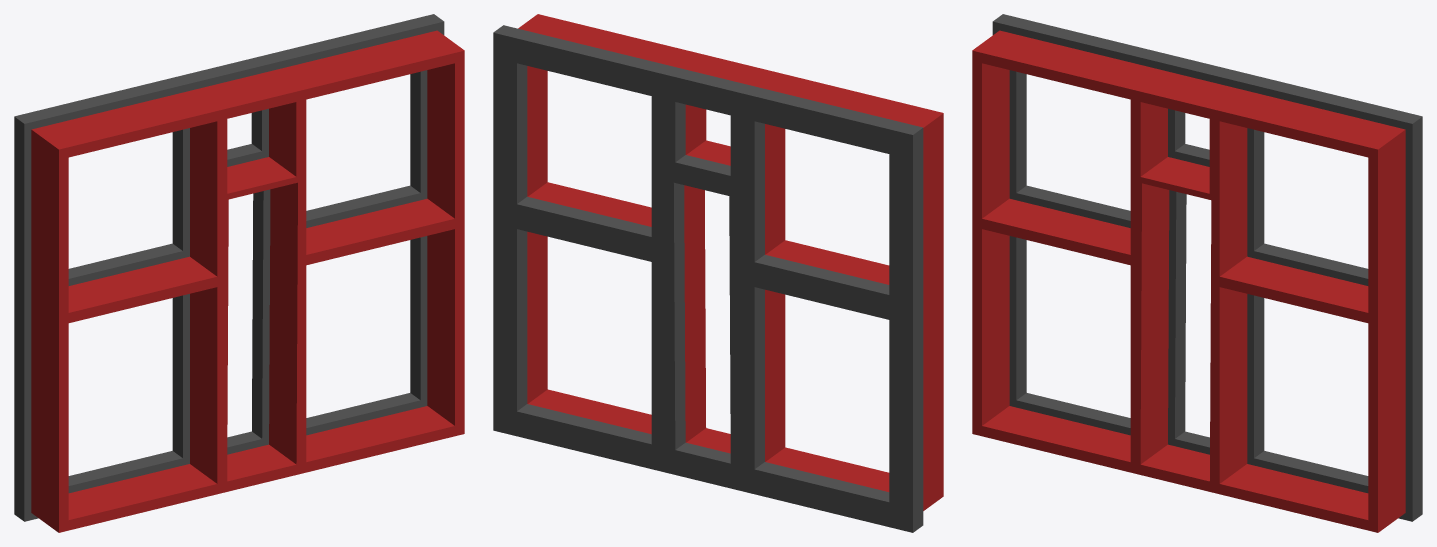
File: 0Fundatii_-1.75.glb
3 renders of one model, left to right at view 1: azimuth 30°, elevation 25°; view 2: azimuth 150°, elevation 25°; view 3: azimuth 330°, elevation 25°, orthographic.
Visible parts, largest first — view 1: IfcWall_1_LAYER_IfcWall, IfcBeam_6_LAYER_IfcBeam; view 2: IfcBeam_6_LAYER_IfcBeam, IfcWall_1_LAYER_IfcWall; view 3: IfcWall_1_LAYER_IfcWall, IfcBeam_6_LAYER_IfcBeam.
Boxes of the visible parts, x1=… form: IfcWall_1_LAYER_IfcWall: x1=31, y1=30, x2=464, y2=532; IfcBeam_6_LAYER_IfcBeam: x1=14, y1=14, x2=444, y2=521; IfcBeam_6_LAYER_IfcBeam: x1=493, y1=25, x2=923, y2=532; IfcWall_1_LAYER_IfcWall: x1=518, y1=14, x2=943, y2=510; IfcWall_1_LAYER_IfcWall: x1=972, y1=30, x2=1405, y2=532; IfcBeam_6_LAYER_IfcBeam: x1=992, y1=14, x2=1422, y2=521.
Bounding box in the file's own units: 10.6 × 9.6 × 1.65.
